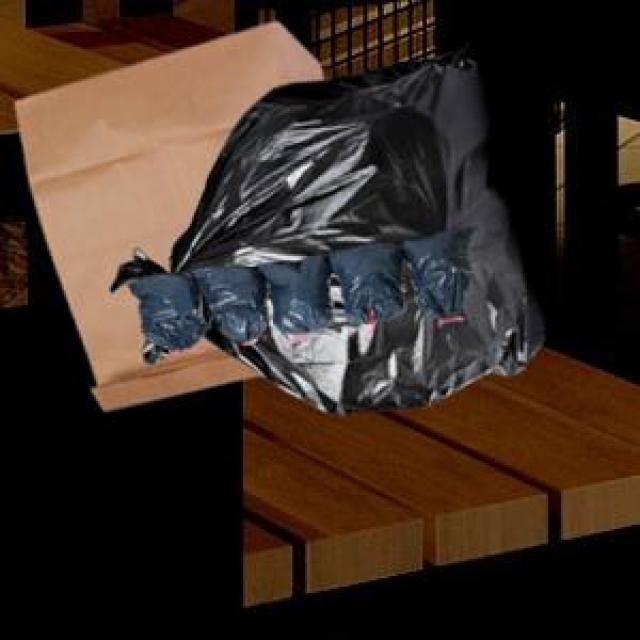miscellaneous trash: (107, 41, 542, 412), (124, 224, 476, 350)
paper: (13, 17, 318, 405)
